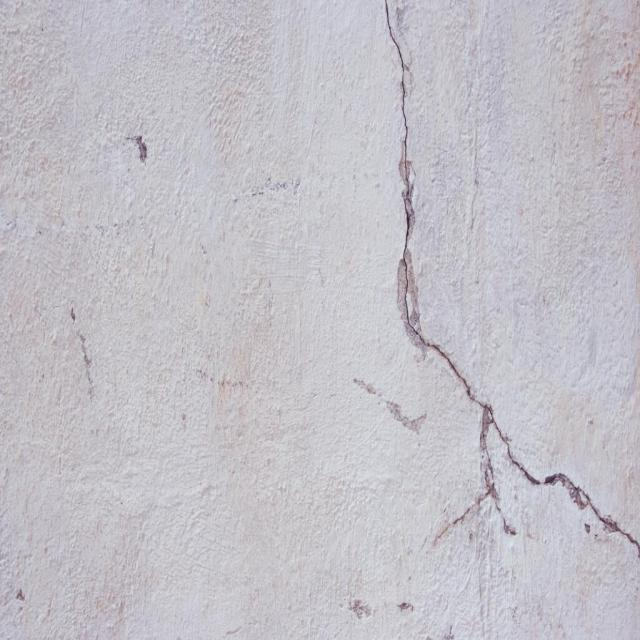Crack: (382, 1, 640, 556)
